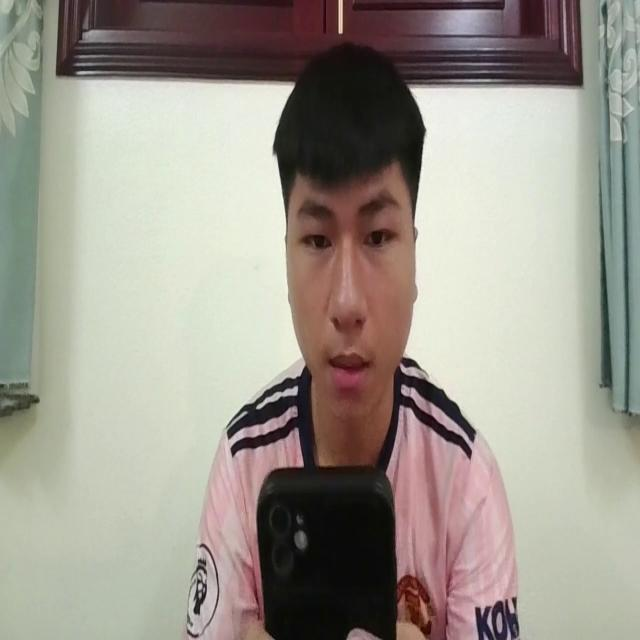phone: (252, 459, 399, 640)
student: (191, 37, 518, 640)
